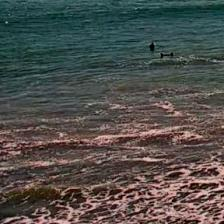surfer: (160, 52, 173, 58), (148, 43, 156, 51)
